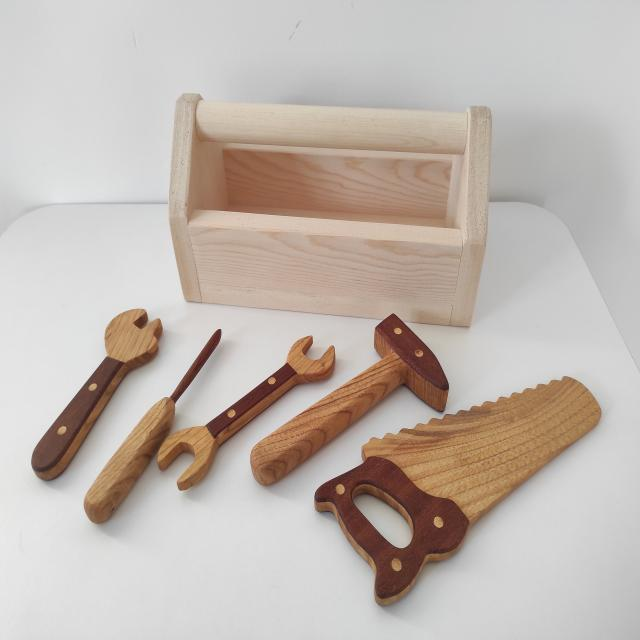hammer: (246, 300, 454, 510)
